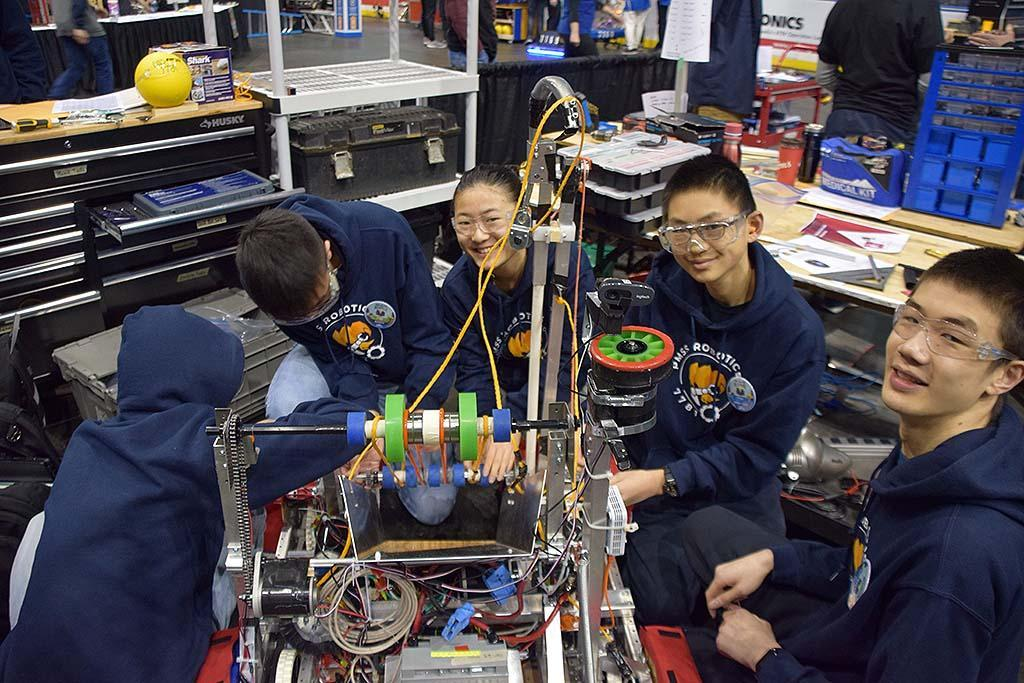robot: (201, 71, 707, 683)
